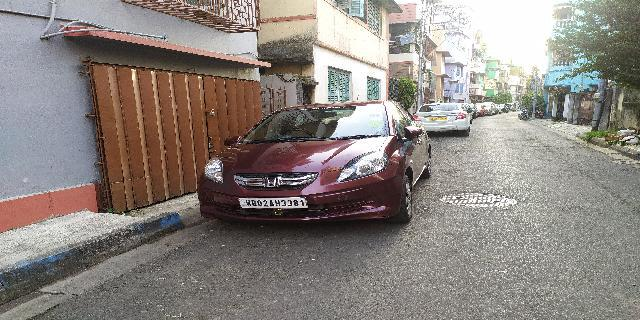Car: (192, 96, 438, 229), (413, 101, 474, 138)
